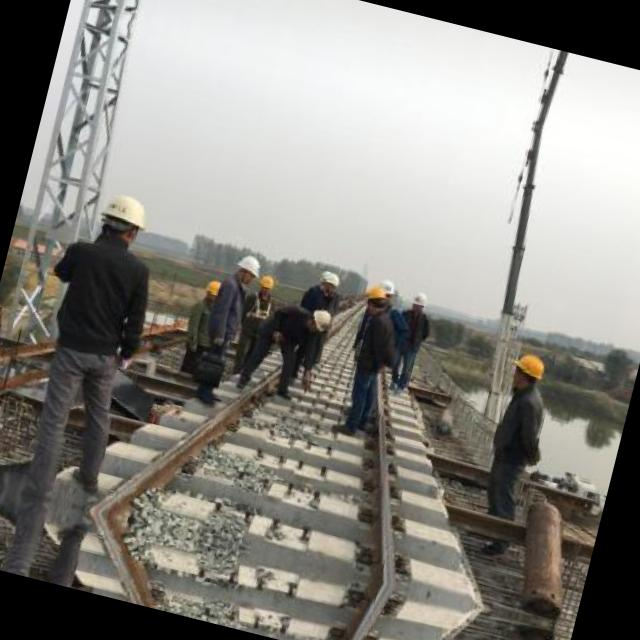helmet: (90, 184, 154, 252), (504, 346, 551, 398), (232, 248, 262, 286), (403, 284, 434, 318), (356, 282, 386, 314), (315, 267, 344, 298), (373, 274, 400, 304), (253, 270, 280, 299), (306, 304, 332, 332), (200, 275, 222, 301)
